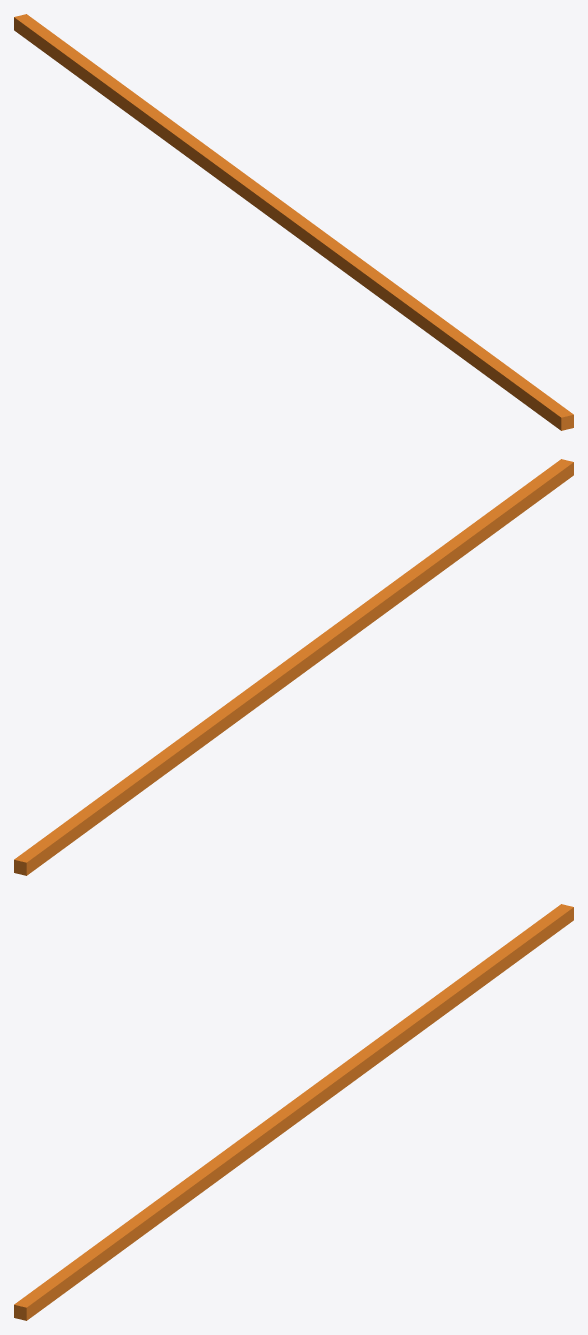
The model's file is bauxite_stockpile_reclaimer_pressure.glb.
3 views of the same model, one above another, from view 1: azimuth 30°, elevation 25°; view 2: azimuth 150°, elevation 25°; view 3: azimuth 330°, elevation 25° (orthographic).
Parts seen in each view (by area): view 1: pressure__front, pressure__back; view 2: pressure__back, pressure__front; view 3: pressure__front, pressure__back.
Part boxes in pixels (<box>): pressure__front: <box>287,214,573,430</box>; pressure__back: <box>14,14,299,230</box>; pressure__back: <box>14,659,300,875</box>; pressure__front: <box>288,459,573,675</box>; pressure__front: <box>14,1104,300,1320</box>; pressure__back: <box>288,904,573,1120</box>.
Size of the model in its own units: 0.04 by 0.04 by 3.
